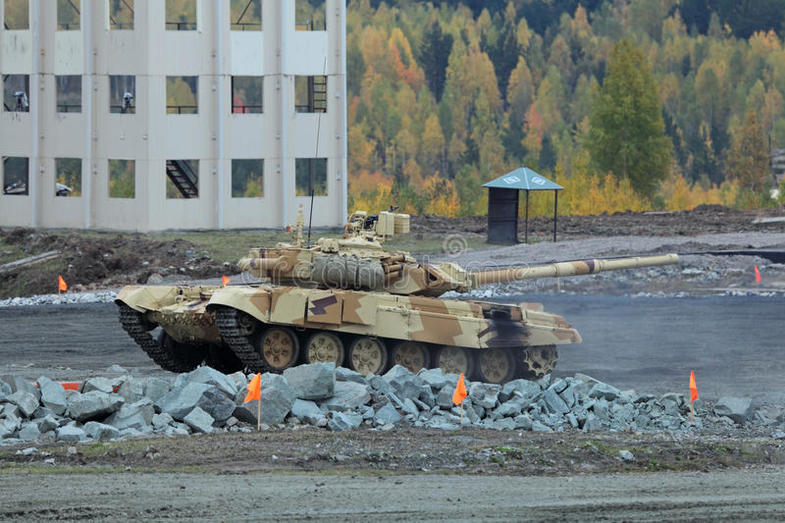t72: (119, 245, 671, 376)
